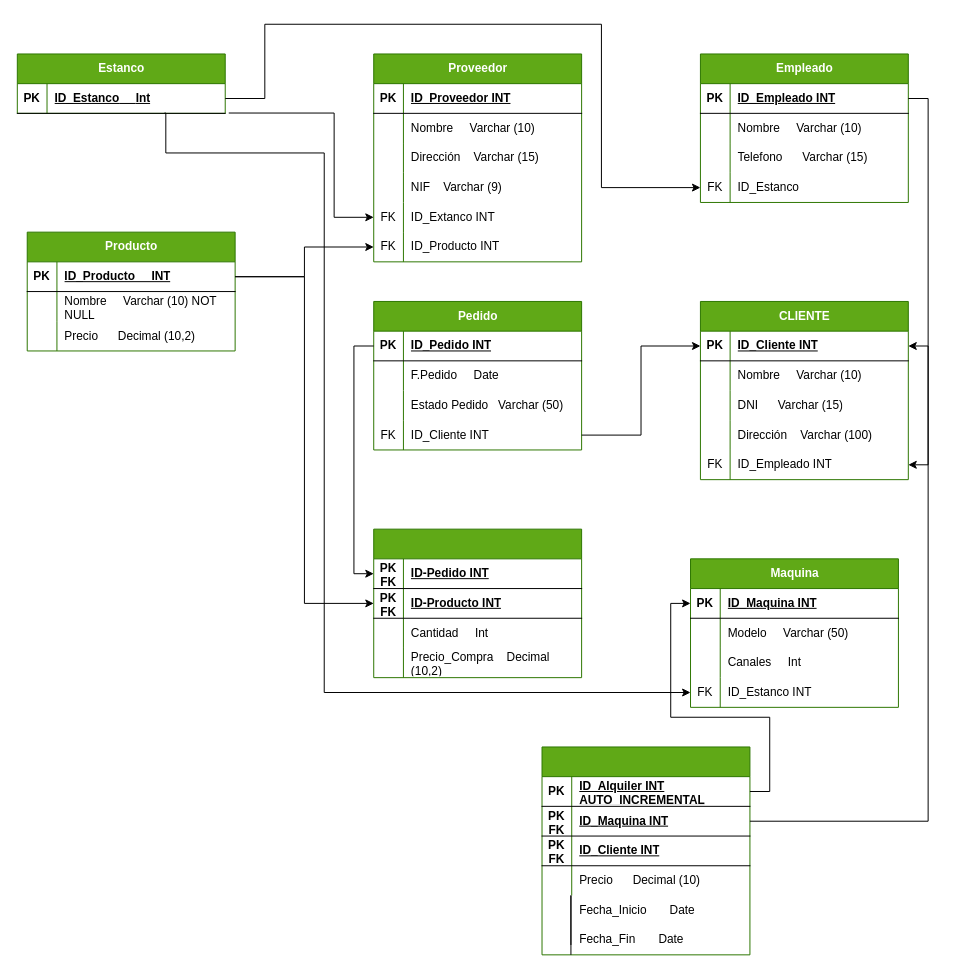
Some shapes in this 953 by 973 pixel diagram are drawn without their labels. The box of each missing label's shape, as (x1, y1, x2, y2) in pixels:
Cliente_Alquiler: (541, 746, 750, 955)
Detalle_Pedido: (373, 528, 582, 678)
